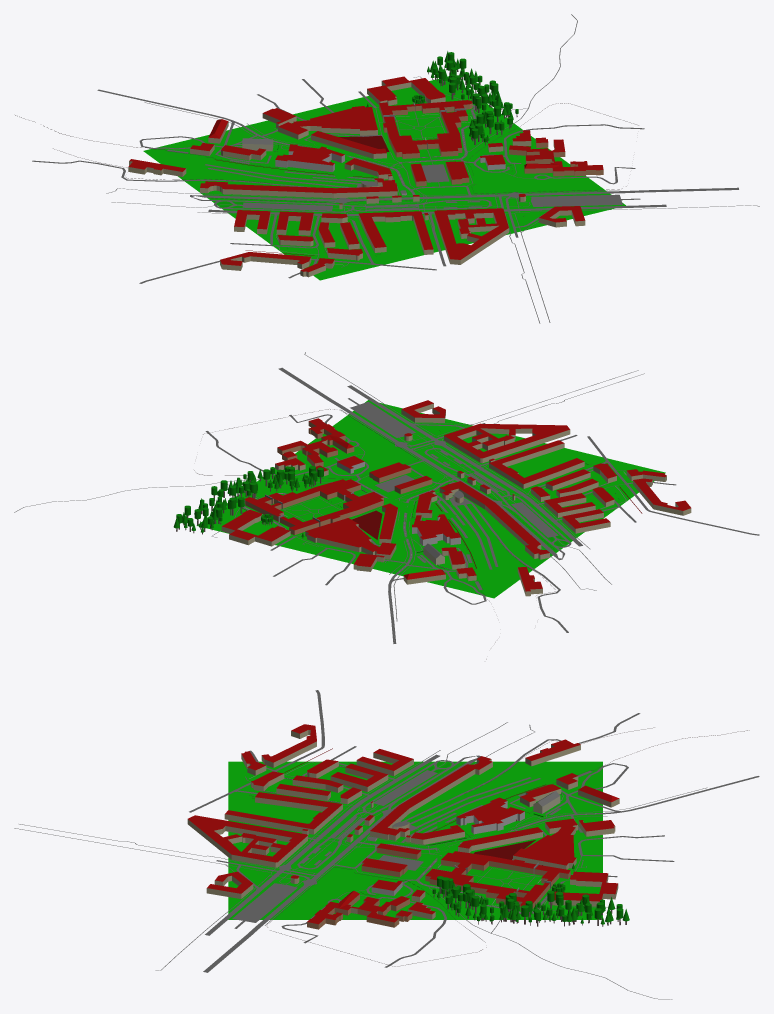
File: osmMap.fbx
3 views of the same model, one above another, from view 1: azimuth 30°, elevation 25°; view 2: azimuth 150°, elevation 25°; view 3: azimuth 270°, elevation 25° (orthographic). The views are drawn at different scales.
Parts seen in each view (by area): view 1: SurfaceArea894, SurfaceArea896, SurfaceArea895, SurfaceArea897, Forest Lill-Jansskogen, Building847, Building864, object 503, Building KTH: D, Building KTH: Biblioteket, Building Nymble, Building KTH: E (+14 smaller); view 2: SurfaceArea894, SurfaceArea895, SurfaceArea896, Forest Lill-Jansskogen, Building847, SurfaceArea897, object 503, Building KTH: D, Building864, Building KTH: Biblioteket, Building KTH: E, Building KTH: F (+11 smaller); view 3: SurfaceArea894, SurfaceArea895, SurfaceArea896, Forest Lill-Jansskogen, Building847, SurfaceArea897, object 503, Building864, Building KTH: Biblioteket, Building KTH: E, Building KTH: D, Building Nymble (+17 smaller).
Part boxes in pixels (left/top/right/bottom): SurfaceArea894: left=209, top=154, right=511, bottom=280; SurfaceArea896: left=409, top=125, right=626, bottom=233; SurfaceArea895: left=143, top=104, right=428, bottom=199; SurfaceArea897: left=335, top=76, right=515, bottom=143; Forest Lill-Jansskogen: left=427, top=51, right=518, bottom=145; Building847: left=434, top=208, right=508, bottom=264; Building864: left=200, top=178, right=397, bottom=198; object 503: left=190, top=187, right=738, bottom=216; Building KTH: D: left=414, top=100, right=472, bottom=156; Building KTH: Biblioteket: left=292, top=106, right=377, bottom=135; Building Nymble: left=275, top=144, right=344, bottom=172; Building KTH: E: left=379, top=102, right=426, bottom=158; SurfaceArea894: left=379, top=433, right=665, bottom=551; SurfaceArea895: left=308, top=493, right=557, bottom=598; SurfaceArea896: left=261, top=400, right=472, bottom=497; Forest Lill-Jansskogen: left=173, top=466, right=323, bottom=534; Building847: left=444, top=423, right=570, bottom=463; SurfaceArea897: left=196, top=478, right=357, bottom=552; object 503: left=278, top=367, right=582, bottom=559; Building KTH: D: left=245, top=479, right=360, bottom=521; Building864: left=439, top=481, right=549, bottom=559; Building KTH: Biblioteket: left=305, top=518, right=379, bottom=554; Building KTH: E: left=280, top=492, right=383, bottom=535; Building KTH: F: left=221, top=510, right=290, bottom=546; SurfaceArea894: left=228, top=761, right=462, bottom=860; SurfaceArea895: left=437, top=761, right=602, bottom=869; SurfaceArea896: left=228, top=860, right=462, bottom=919; Forest Lill-Jansskogen: left=432, top=876, right=629, bottom=926; Building847: left=187, top=815, right=307, bottom=867; SurfaceArea897: left=462, top=860, right=602, bottom=919; object 503: left=203, top=754, right=478, bottom=972; Building864: left=370, top=756, right=492, bottom=840; Building KTH: Biblioteket: left=513, top=825, right=576, bottom=869; Building KTH: E: left=441, top=851, right=570, bottom=886; Building KTH: D: left=425, top=867, right=549, bottom=911; Building Nymble: left=456, top=797, right=524, bottom=834.
Bounding box in the file's own units: 939 × 29.99 × 955.
